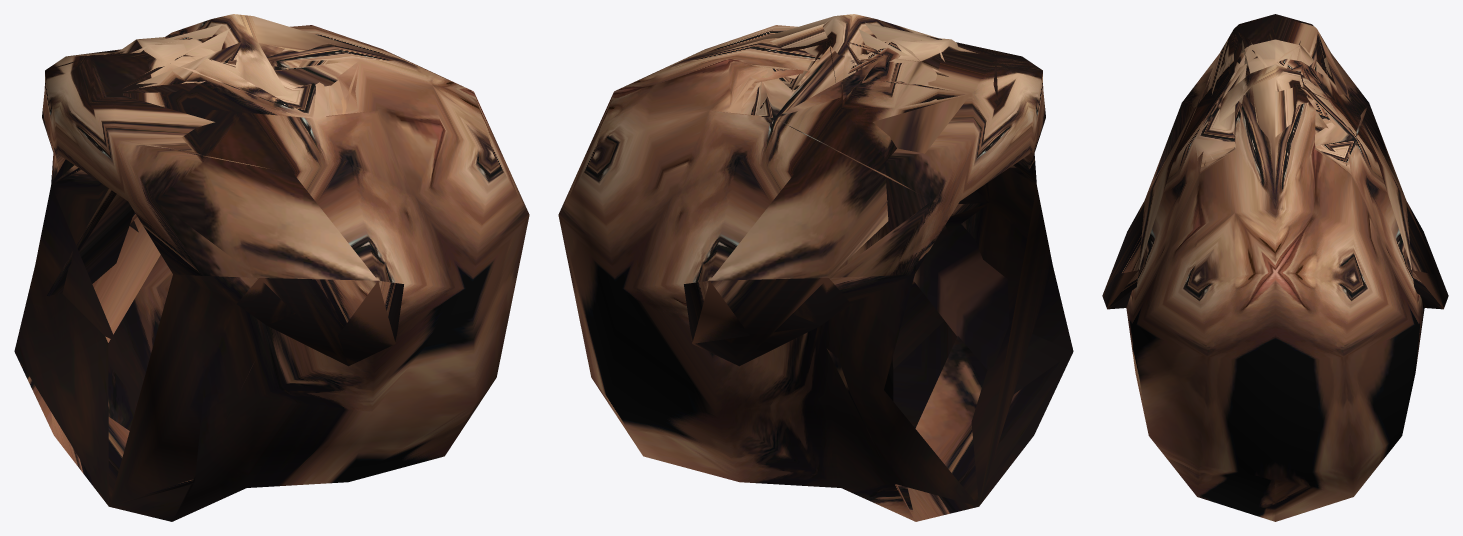
The model's file is a_wt_m_hea_00.obj.
3 views of the same model, side by side, from view 1: azimuth 30°, elevation 25°; view 2: azimuth 150°, elevation 25°; view 3: azimuth 270°, elevation 25° (orthographic). The views are drawn at different scales.
Bounding box in the file's own units: 6.17 × 6.25 × 4.99.
